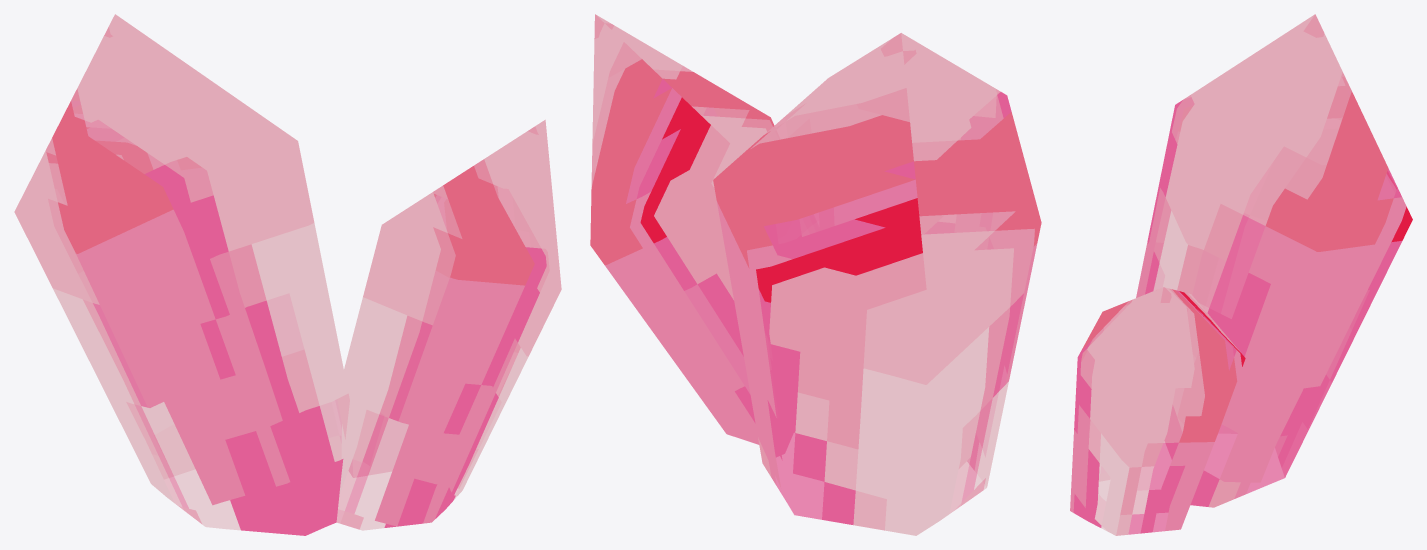
3 views of the same model, side by side, from view 1: azimuth 30°, elevation 25°; view 2: azimuth 150°, elevation 25°; view 3: azimuth 270°, elevation 25° (orthographic). The views are drawn at different scales.
Parts seen in each view (by area): view 1: 00_polygon0; view 2: 00_polygon0; view 3: 00_polygon0.
Part boxes in pixels (box(x1,y1,x2,y2)): 00_polygon0: box(14, 14, 561, 535); 00_polygon0: box(590, 14, 1041, 535); 00_polygon0: box(1070, 14, 1412, 535).
Bounding box in the file's own units: 0.2749 × 0.276 × 0.2063.
Materials: 1 (1 with a texture image).
